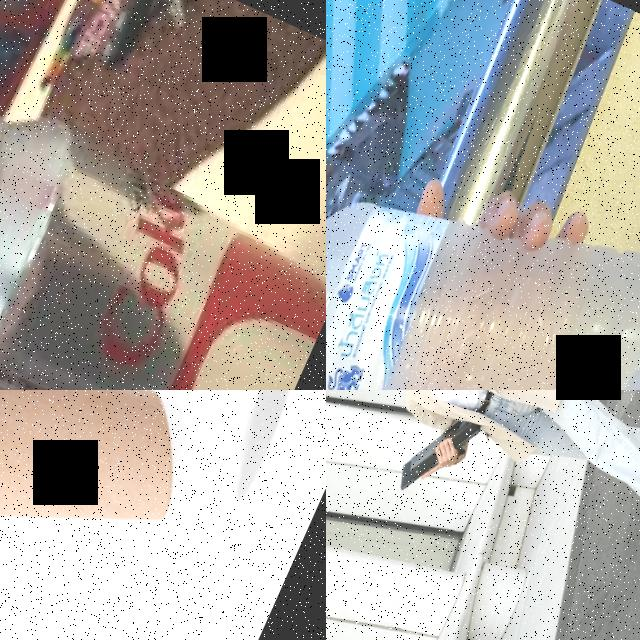bottle: (326, 94, 640, 390)
can: (0, 66, 326, 390)
cup: (0, 390, 223, 627)
